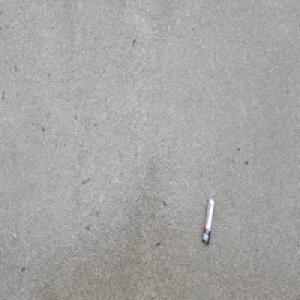Battery: (201, 196, 215, 245)
